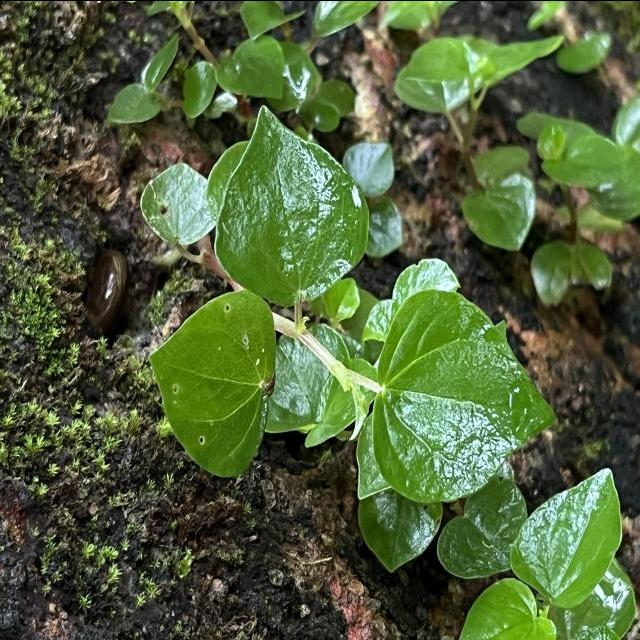Peperomia pellucida: (370, 287, 558, 505), (213, 100, 372, 308), (146, 287, 278, 478)
